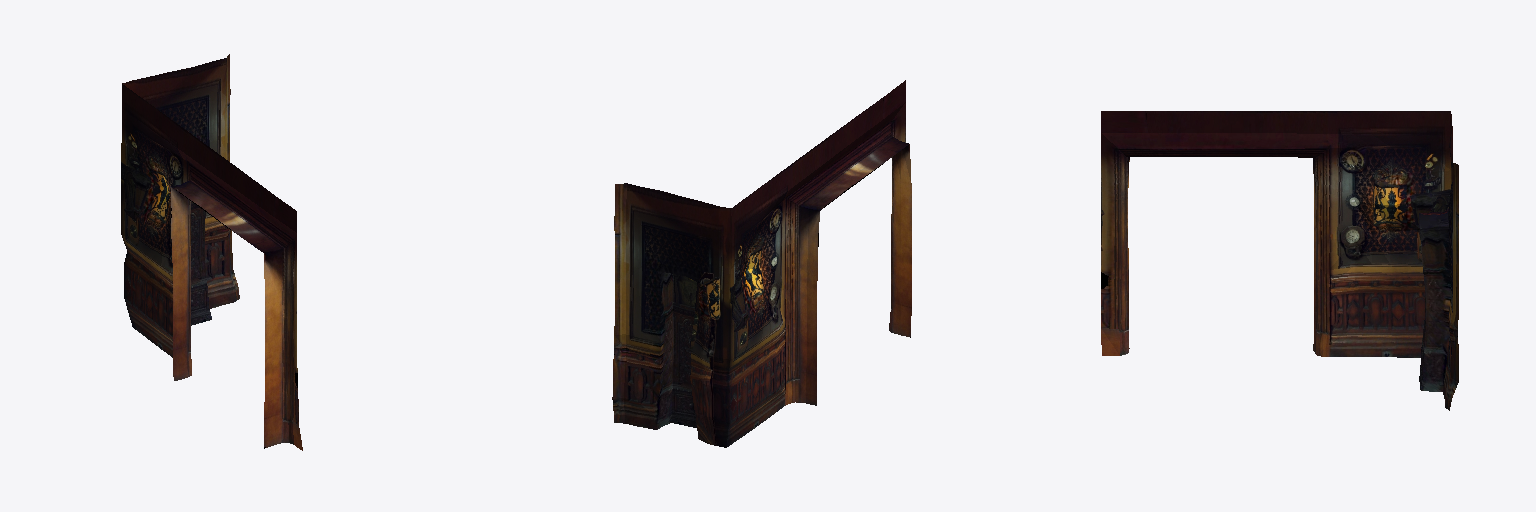
3 views of the same model, side by side, from view 1: azimuth 30°, elevation 25°; view 2: azimuth 150°, elevation 25°; view 3: azimuth 270°, elevation 25° (orthographic).
Visible parts, largest first — view 1: LivingRoom_GEO_GRP_LivingRoom_Wall_Front; view 2: LivingRoom_GEO_GRP_LivingRoom_Wall_Front; view 3: LivingRoom_GEO_GRP_LivingRoom_Wall_Front.
Boxes of the visible parts, x1=… form: LivingRoom_GEO_GRP_LivingRoom_Wall_Front: x1=121, y1=54, x2=302, y2=450; LivingRoom_GEO_GRP_LivingRoom_Wall_Front: x1=612, y1=80, x2=911, y2=447; LivingRoom_GEO_GRP_LivingRoom_Wall_Front: x1=1101, y1=111, x2=1458, y2=410.
Bounding box in the file's own units: 2.14 × 3.62 × 4.83.
Materials: 1 (1 with a texture image).